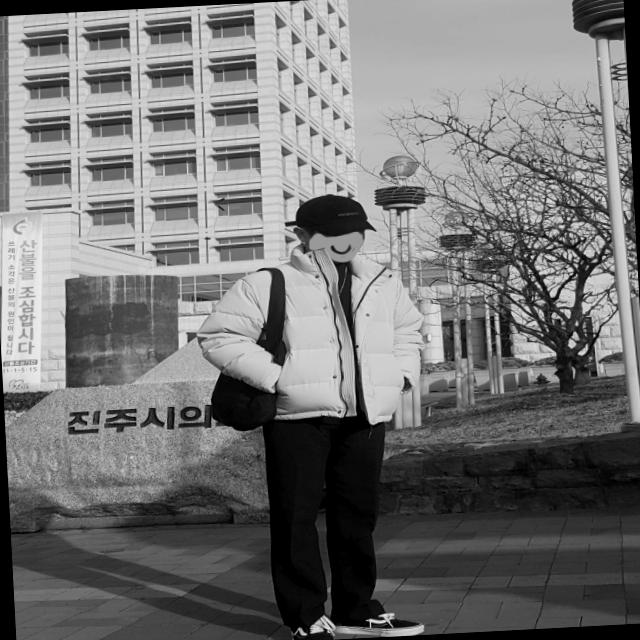padding: (194, 238, 428, 434)
slacks: (264, 413, 398, 628)
